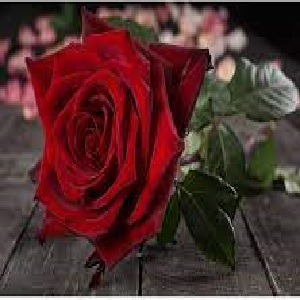rose: (24, 42, 205, 250)
